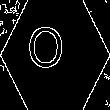O_S: (37, 30, 73, 80)
